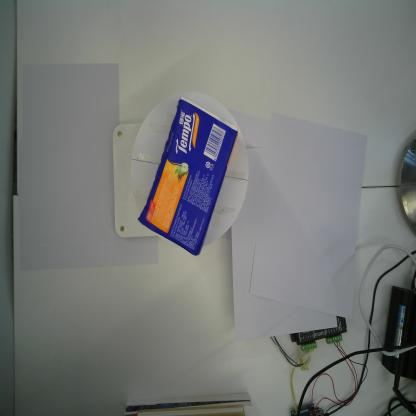Tissue: (138, 94, 238, 258)
